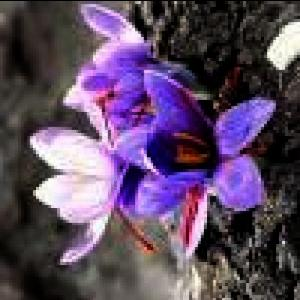Saffron: (119, 79, 275, 219), (27, 125, 121, 266)
